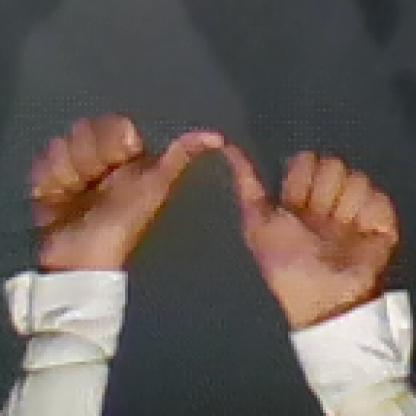A: (14, 98, 402, 302)
